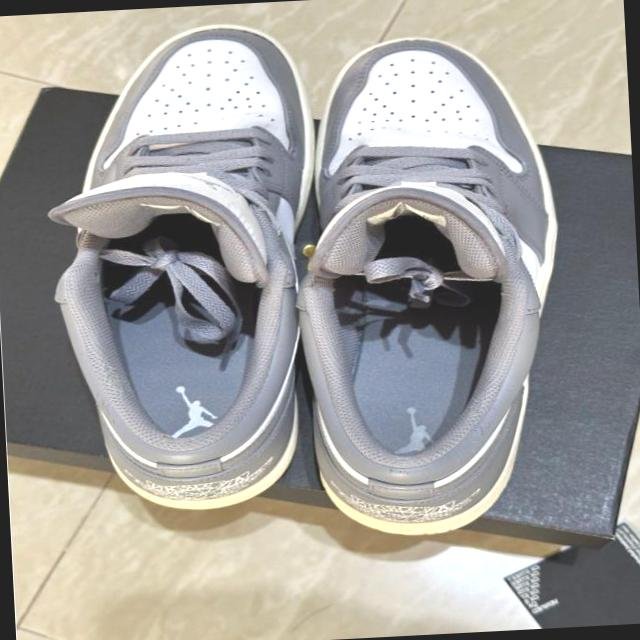nike_original_jordan: (38, 8, 342, 520), (276, 16, 566, 544)
